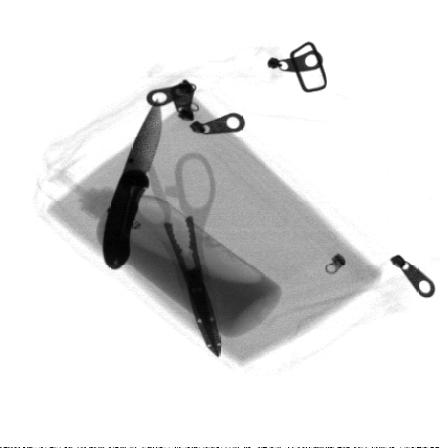Knife: (103, 97, 162, 271)
Scissors: (125, 153, 221, 357)
